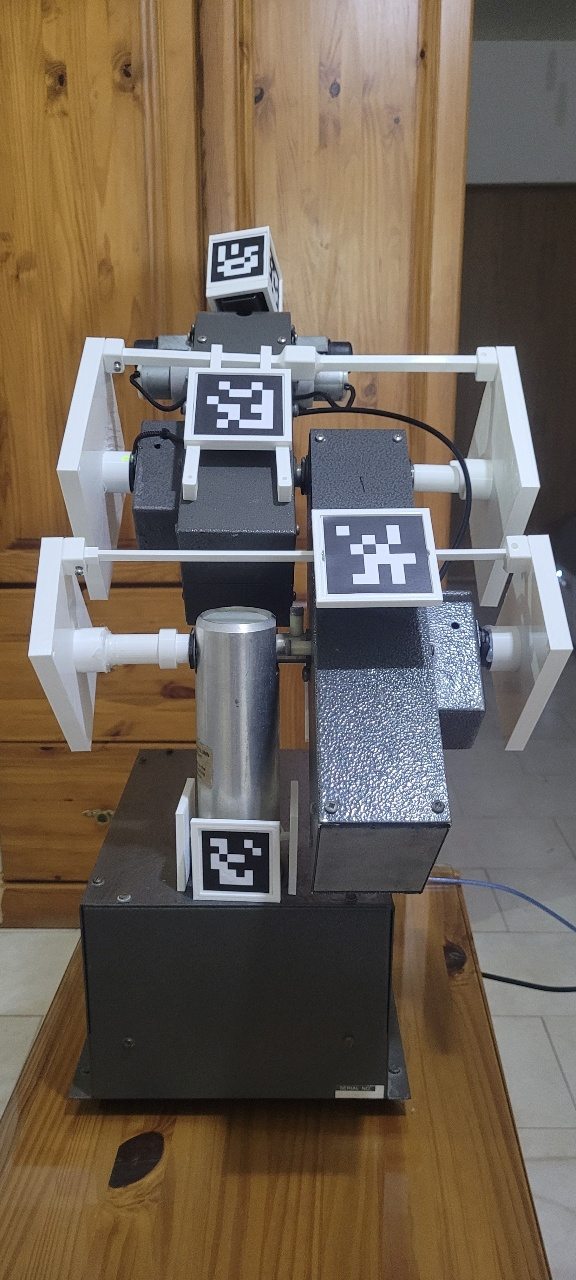Robot: (26, 227, 576, 905)
